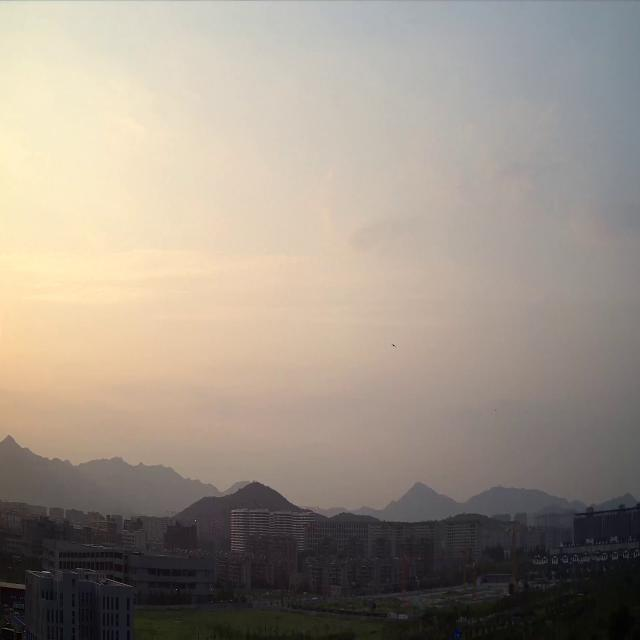drone: (392, 343, 396, 347)
